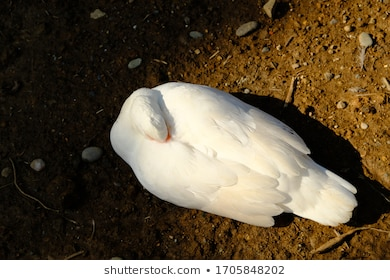duck: (89, 69, 377, 237)
